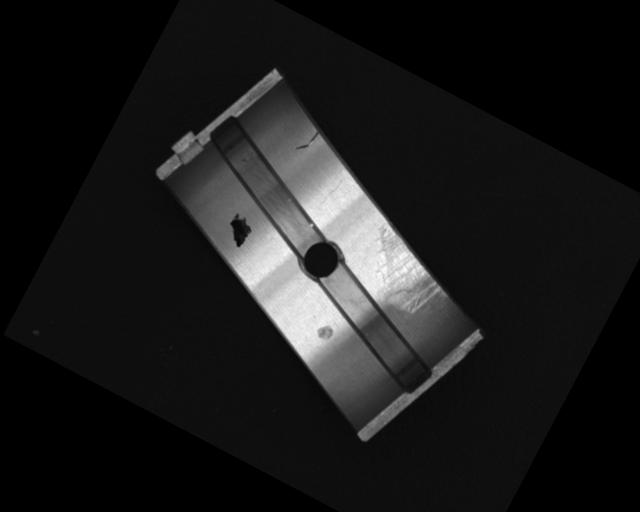blot: (220, 209, 257, 250)
bruise: (314, 321, 336, 343)
gap: (178, 114, 350, 263), (291, 257, 457, 399)
hole: (293, 229, 348, 287)
nick: (319, 175, 345, 209), (295, 123, 321, 155)
scratch: (348, 218, 467, 328)
